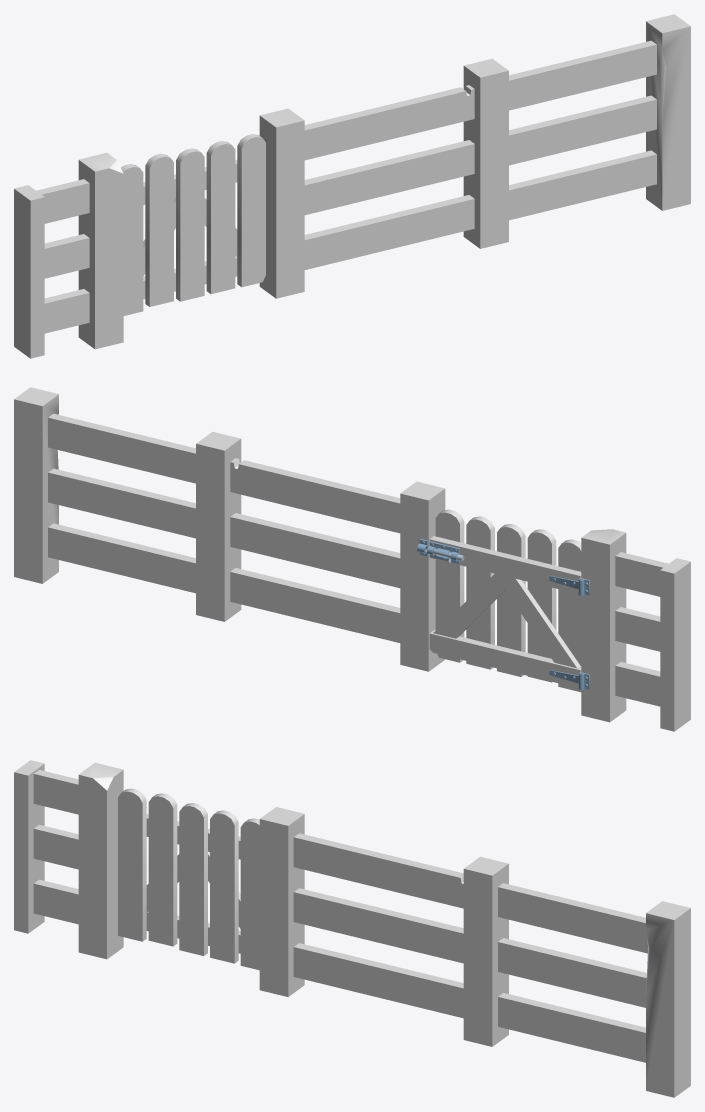
Rendered from Fence_01.fbx.
3 views of the same model, one above another, from view 1: azimuth 30°, elevation 25°; view 2: azimuth 150°, elevation 25°; view 3: azimuth 330°, elevation 25° (orthographic).
Parts seen in each view (by area): view 1: Fence_01, Fence01_Gate; view 2: Fence_01, Fence01_Gate; view 3: Fence_01, Fence01_Gate.
Boxes of the visible parts, bbox=[...] form: Fence_01: bbox=[14, 14, 690, 358]; Fence01_Gate: bbox=[121, 134, 265, 315]; Fence_01: bbox=[14, 387, 690, 731]; Fence01_Gate: bbox=[427, 509, 584, 692]; Fence_01: bbox=[14, 760, 690, 1097]; Fence01_Gate: bbox=[118, 788, 259, 970].
Size of the model in its own units: 13.75 by 3.54 by 0.742.
